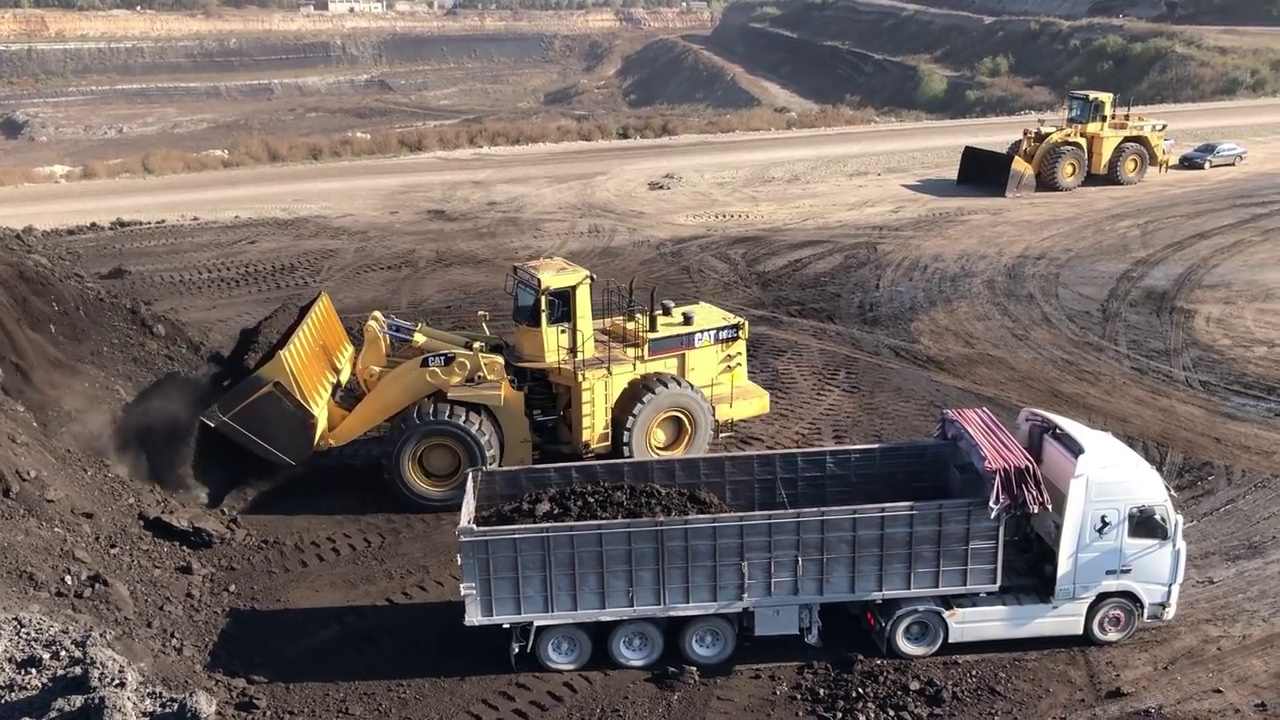car: (1178, 142, 1247, 171)
truck: (460, 407, 1189, 667)
wheel loader: (199, 252, 775, 496), (956, 87, 1174, 194)
